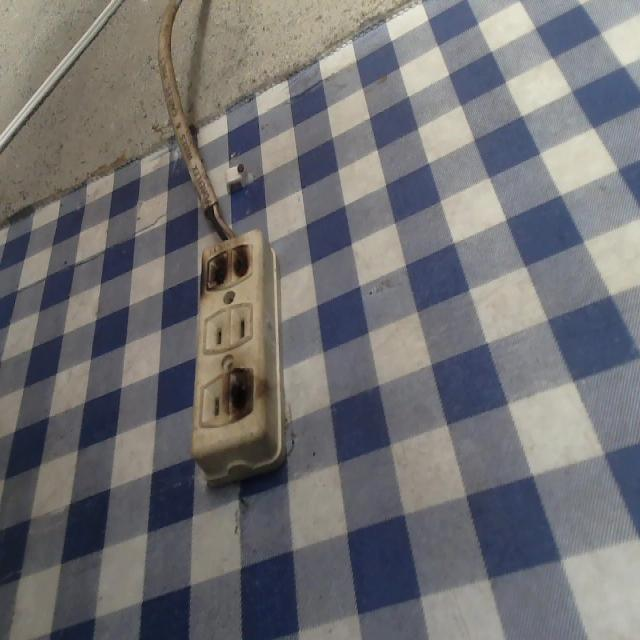-: (192, 239, 259, 297), (218, 364, 274, 425)
